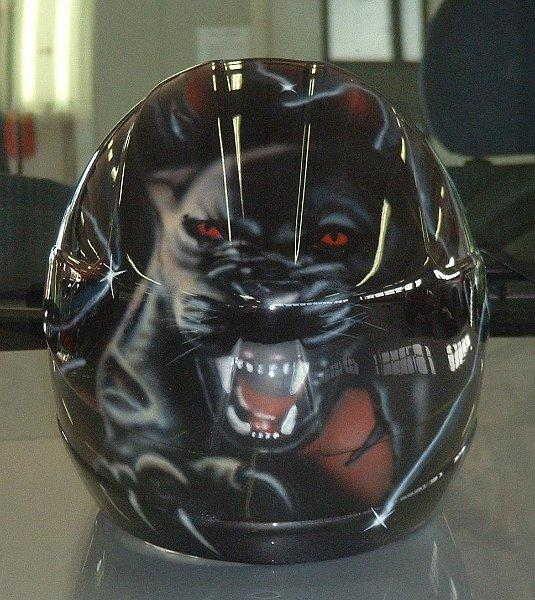helmet: (55, 79, 493, 543)
